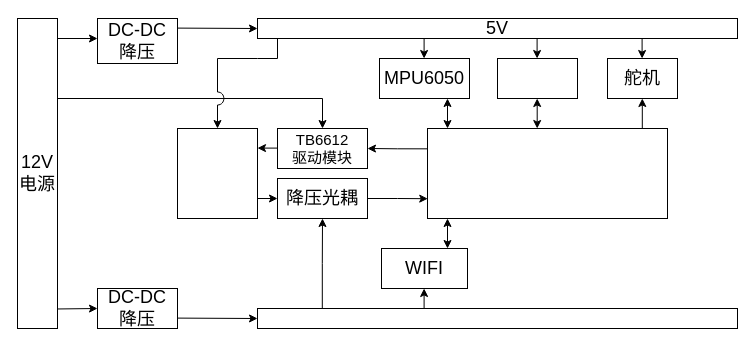
This 755x347 diagram has some shape labels left out. The shapes that lost their labels are listed below. From the top down, each one's centre as x and y in pixels, then its label:
At (537,78): "视觉模块".
At (217,173): "直流减速电机".
At (547,173): "MSP432P401R".
At (497,318): "3.3V".
